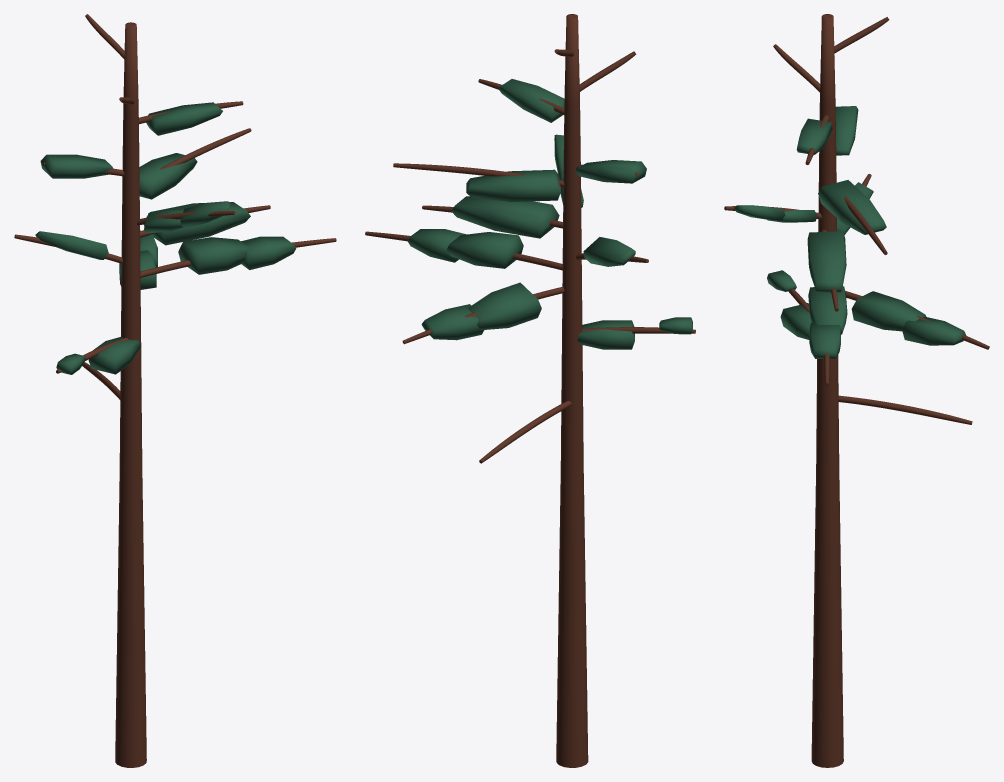
The model's file is pine_1.glb.
The picture shows the model from 3 angles, left to right: view 1: azimuth 30°, elevation 25°; view 2: azimuth 150°, elevation 25°; view 3: azimuth 270°, elevation 25°; orthographic projection.
Parts seen in each view (by area): view 1: Circle, Cube, NurbsPath; view 2: Cube, Circle, NurbsPath; view 3: Cube, Circle, NurbsPath.
Part boxes in pixels (<box>): Circle: <box>115,22,146,767</box>; Cube: <box>35,102,296,374</box>; NurbsPath: <box>14,14,336,399</box>; Cube: <box>407,79,692,349</box>; Circle: <box>556,14,588,767</box>; NurbsPath: <box>365,49,695,463</box>; Cube: <box>734,106,966,358</box>; Circle: <box>811,14,843,767</box>; NurbsPath: <box>724,17,989,424</box>.
Size of the model in its own units: 5.85 by 13.6 by 4.39.
